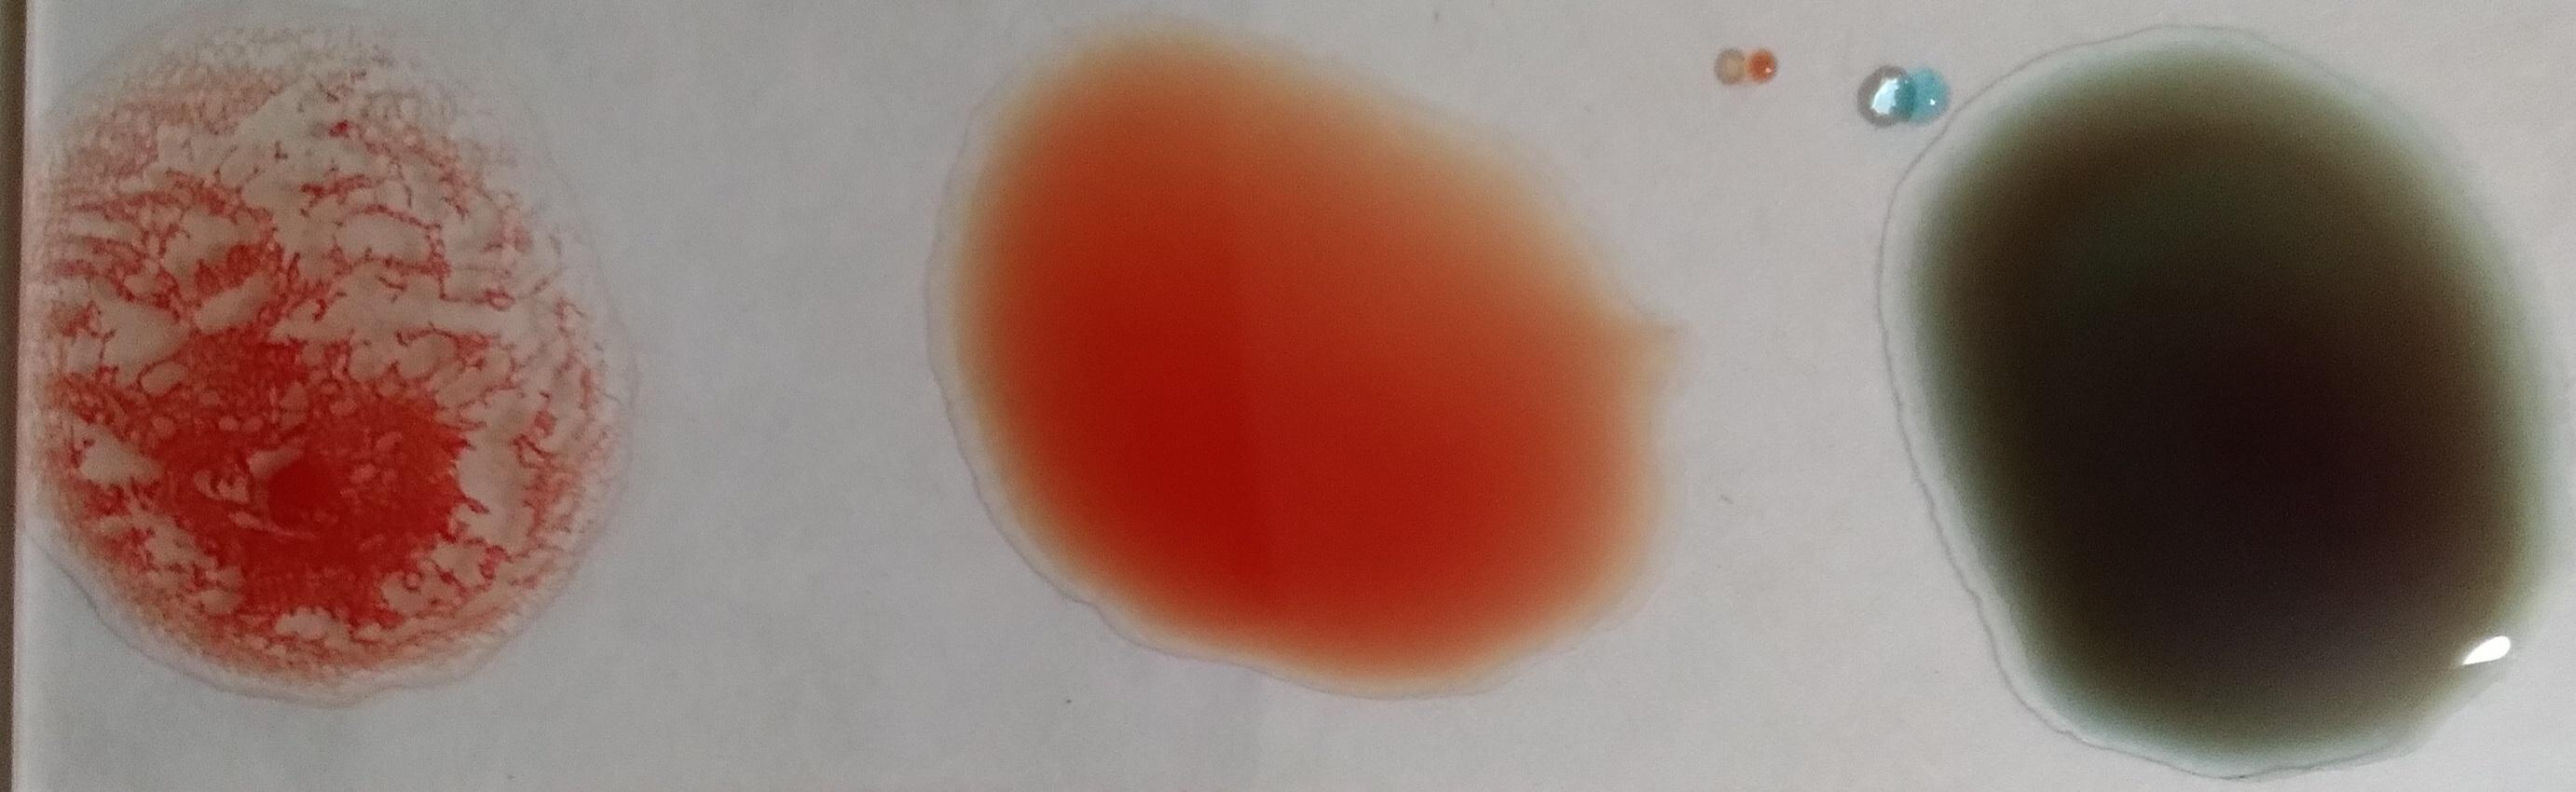D: (33, 38, 596, 702)
